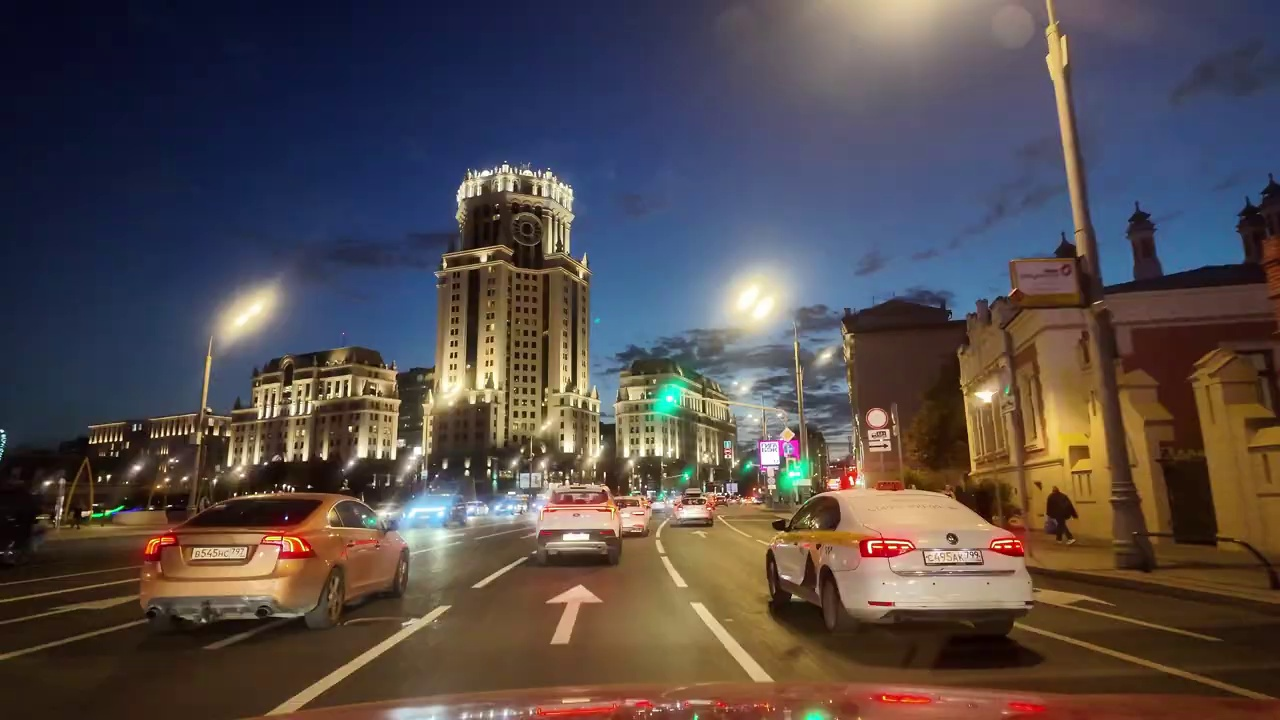acesa: (217, 288, 274, 344), (729, 276, 777, 328)
